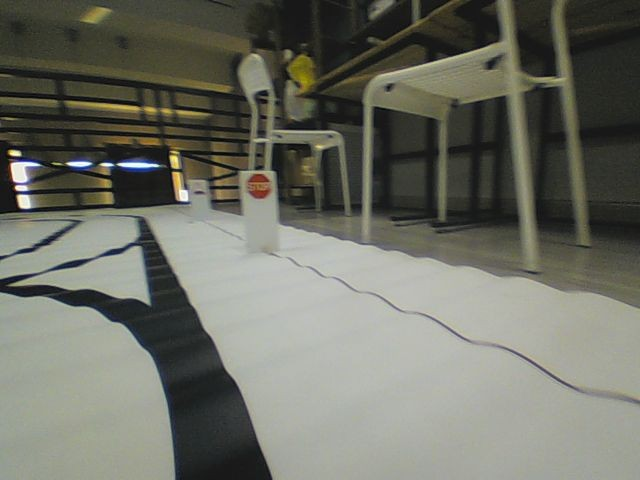Stop: (246, 173, 272, 199)
